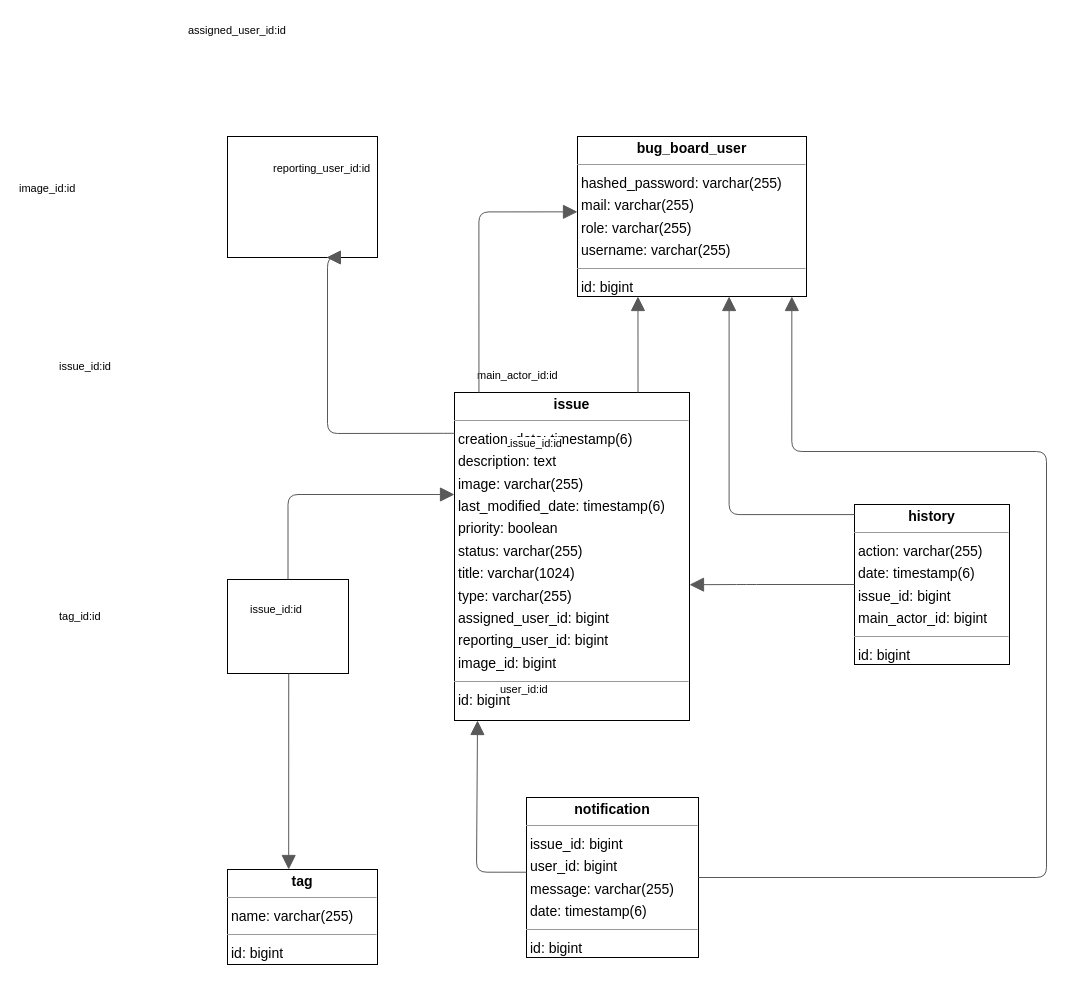
This 1078x982 diagram has some shape labels left out. The centre of each missing label's shape, as x and y in pixels:
"issue_image name: varchar(255) raw_image: oid id: bigint" goes at point 302,197.
"issue_tag issue_id: bigint tag_id: bigint" goes at point 287,626.
